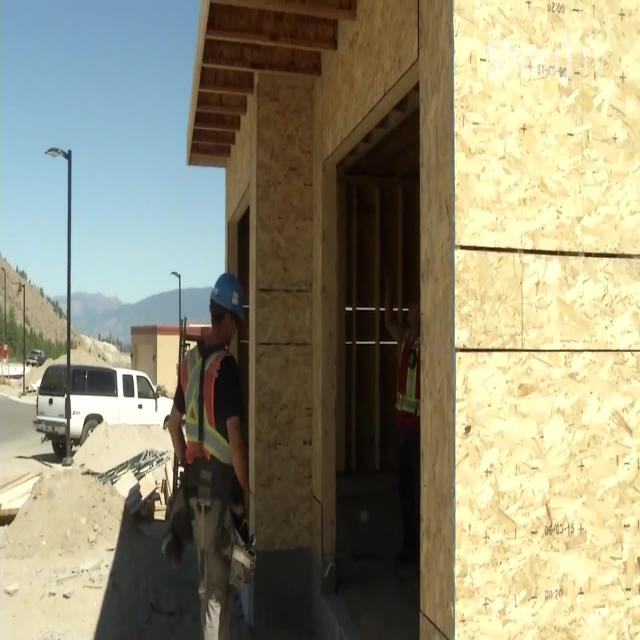Reflective-Jacket: (162, 337, 255, 531), (389, 328, 423, 441)
Safety-Helmet: (202, 262, 252, 330)
